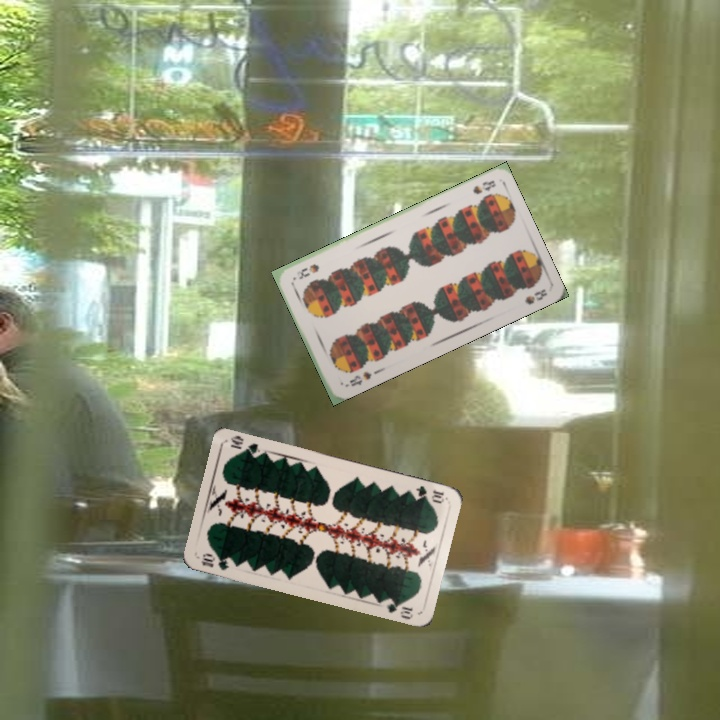G10: (412, 481, 447, 505), (197, 549, 231, 573)
S8: (345, 367, 374, 389), (469, 176, 498, 197)
